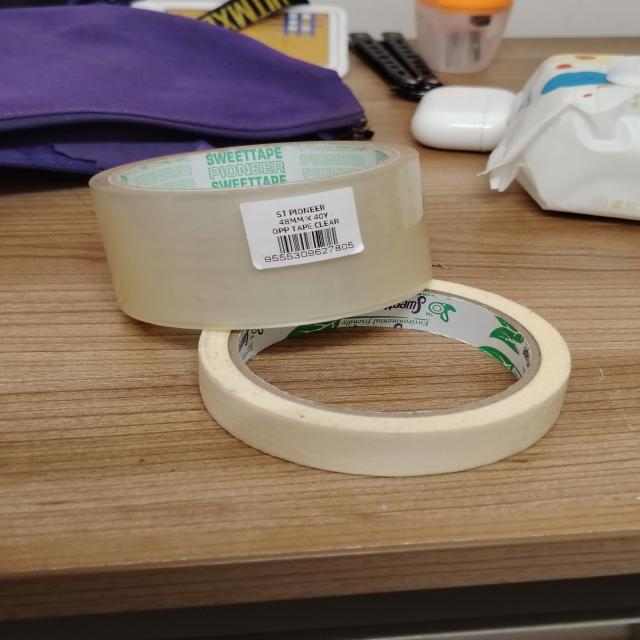sharpener: (416, 0, 511, 73)
tape: (199, 280, 570, 476), (90, 142, 432, 329)
